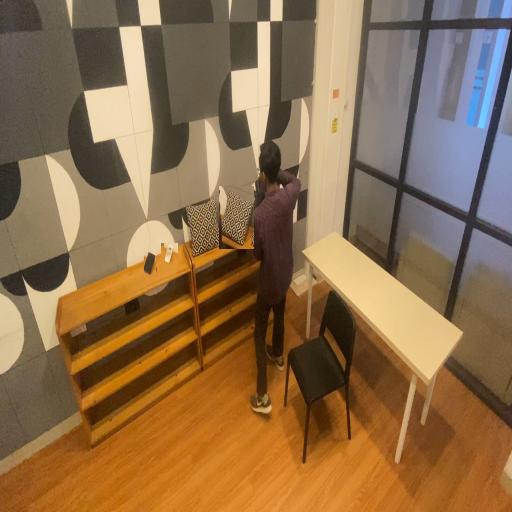bantal: (183, 196, 222, 262), (219, 186, 254, 249)
hp: (144, 244, 156, 277)
kursi: (284, 277, 360, 467)
lemari: (54, 234, 204, 452)
meja: (301, 225, 466, 473)
remote AC: (161, 243, 178, 266)
